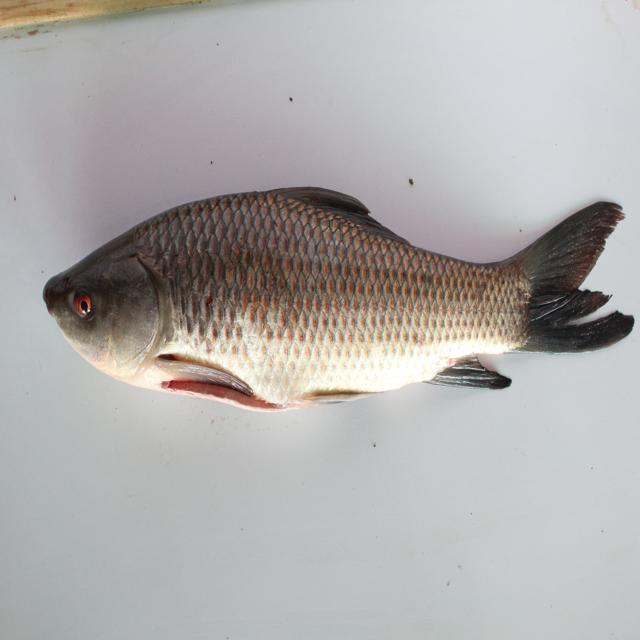Rohu: (38, 190, 636, 400)
